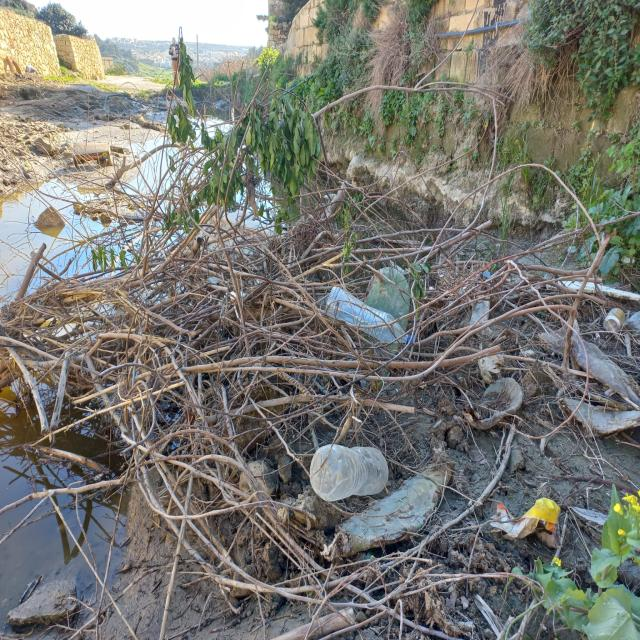Bottle: (321, 287, 416, 346), (305, 443, 390, 503), (625, 311, 640, 339)
Can: (601, 306, 625, 338)
Other litter: (69, 140, 114, 168), (25, 65, 40, 75)
Other plastic: (480, 270, 492, 280)
Plastic bag - wrapper: (489, 495, 560, 544)
Styrofoam piece: (556, 278, 640, 302)
Unlabeled litter: (6, 56, 27, 79)
